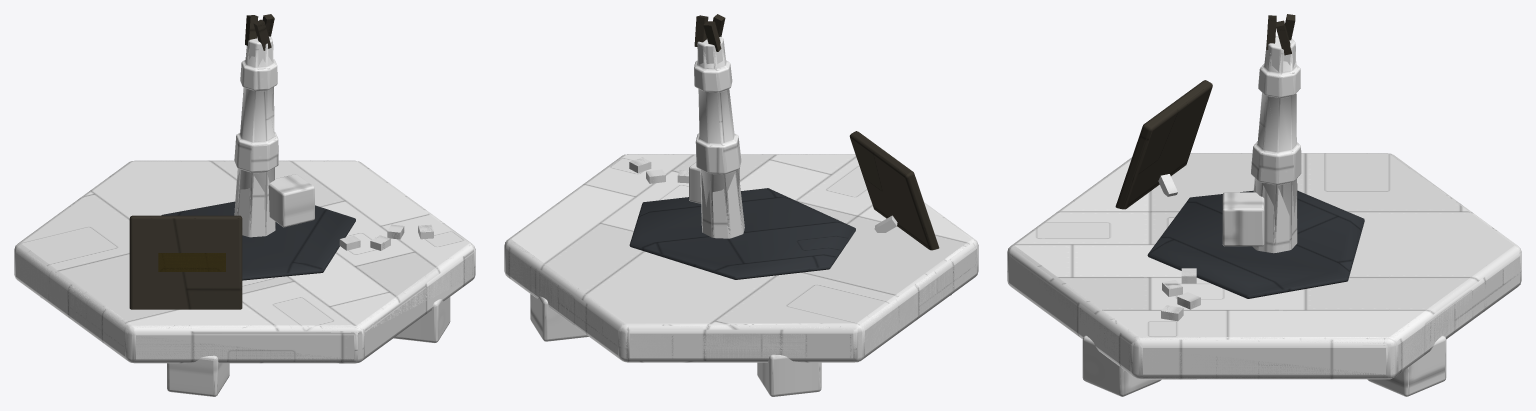
The model's file is place_ash_pin.glb.
The picture shows the model from 3 angles, left to right: view 1: azimuth 30°, elevation 25°; view 2: azimuth 150°, elevation 25°; view 3: azimuth 270°, elevation 25°; orthographic projection. The views are drawn at different scales.
Parts seen in each view (by area): view 1: LOD0_deadmetal, LOD0_BrushedMetal, LOD1_deadmetal, LOD0_Mechanical, LOD0_Armor, LOD0_deadmetal_deep, LOD2_deadmetal, LOD0_Warning, LOD1_Warning, LOD1_Mechanical, LOD1_BrushedMetal; view 2: LOD0_deadmetal, LOD1_deadmetal, LOD0_Armor, LOD0_BrushedMetal, LOD0_Mechanical, LOD0_deadmetal_deep, LOD2_deadmetal, LOD1_BrushedMetal, LOD1_Mechanical; view 3: LOD0_deadmetal, LOD0_Armor, LOD1_deadmetal, LOD0_Mechanical, LOD0_BrushedMetal, LOD0_deadmetal_deep, LOD2_deadmetal, LOD1_Mechanical, LOD1_BrushedMetal.
Part boxes in pixels (x1,y1,x2,y2): LOD0_deadmetal: (14,36,475,363); LOD0_BrushedMetal: (129,14,274,309); LOD1_deadmetal: (14,40,475,363); LOD0_Mechanical: (167,174,450,396); LOD0_Armor: (161,201,355,280); LOD0_deadmetal_deep: (234,59,278,172); LOD2_deadmetal: (14,40,475,363); LOD0_Warning: (158,253,225,271); LOD1_Warning: (158,253,225,271); LOD1_Mechanical: (168,180,449,396); LOD1_BrushedMetal: (130,15,274,309); LOD0_deadmetal: (504,37,978,362); LOD1_deadmetal: (504,42,978,362); LOD0_Armor: (629,188,855,279); LOD0_BrushedMetal: (694,14,939,250); LOD0_Mechanical: (530,157,897,396); LOD0_deadmetal_deep: (694,60,741,174); LOD2_deadmetal: (504,42,978,362); LOD1_BrushedMetal: (694,15,938,250); LOD1_Mechanical: (530,157,891,396); LOD0_deadmetal: (1007,36,1521,379); LOD0_Armor: (1148,190,1364,298); LOD1_deadmetal: (1007,44,1521,379); LOD0_Mechanical: (1082,174,1446,396); LOD0_BrushedMetal: (1115,14,1295,209); LOD0_deadmetal_deep: (1251,63,1301,184); LOD2_deadmetal: (1007,40,1521,379); LOD1_Mechanical: (1083,174,1445,396); LOD1_BrushedMetal: (1123,14,1295,209).
Size of what is drawn, in the model's own units: 5.37 by 4.16 by 6.14.
13 materials, 12 textured.
